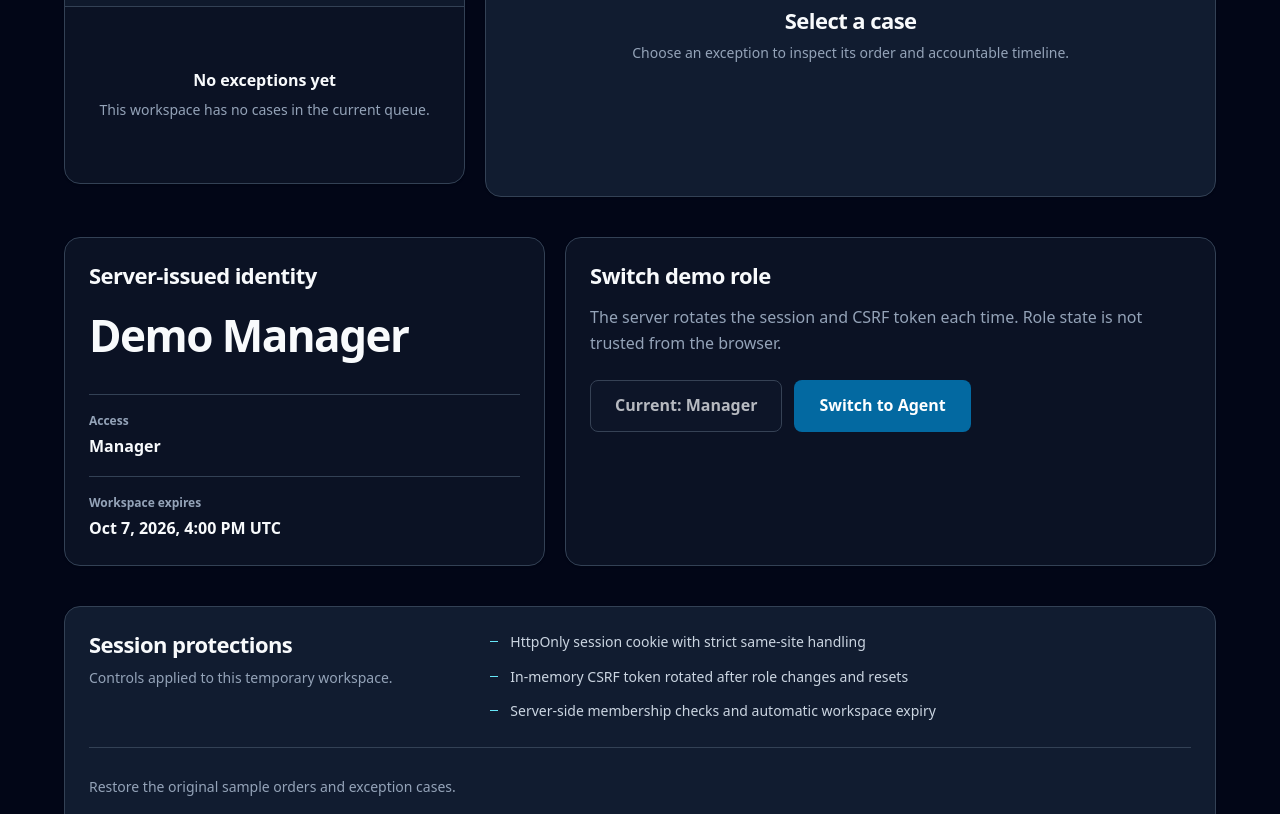
Test case: CommerceOps Desk demo identity › switches roles with the in-memory CSRF token and a fresh idempotency key
(page scrolled)
Click the button "Switch to Agent". click: click(883, 406)
box: [794, 380, 971, 432]
(page scrolled)
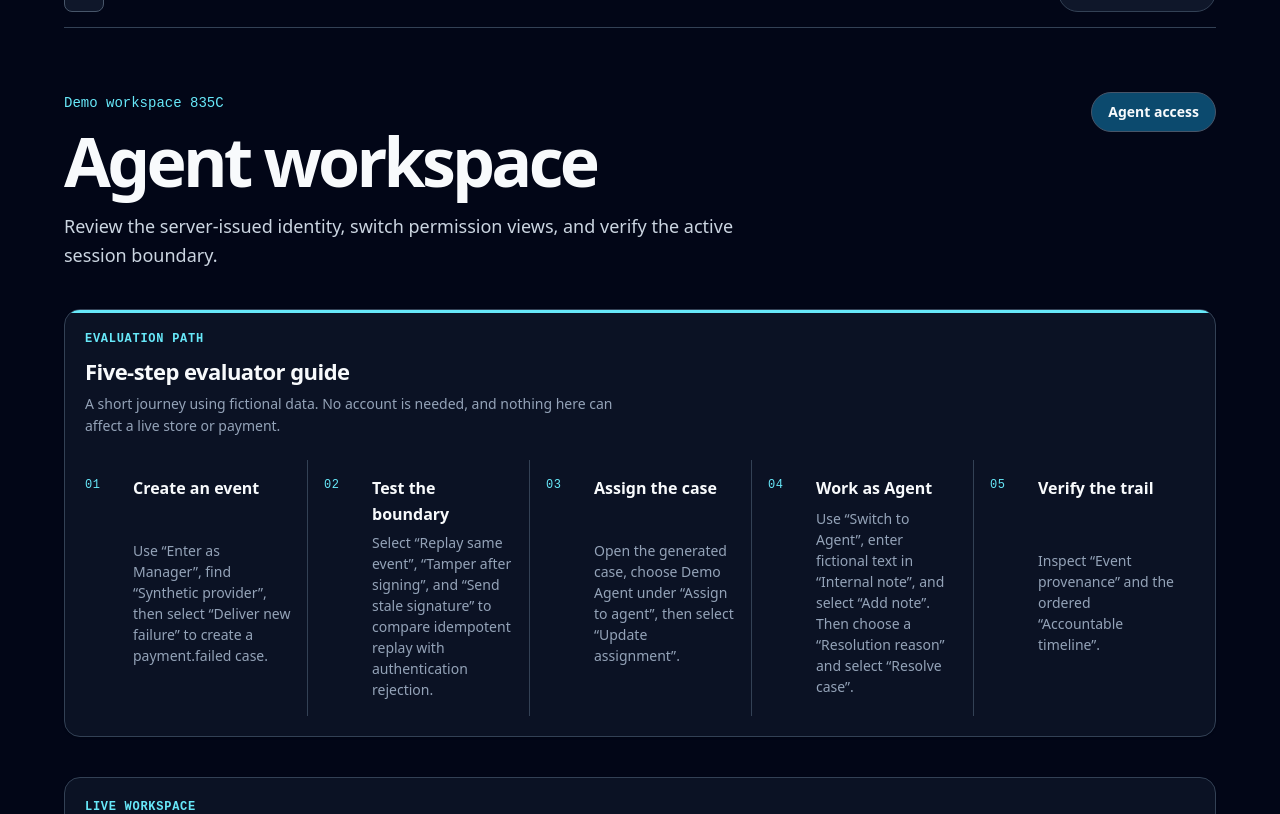
expect the heading "Agent workspace" is shown: met, box [64, 114, 596, 207]
